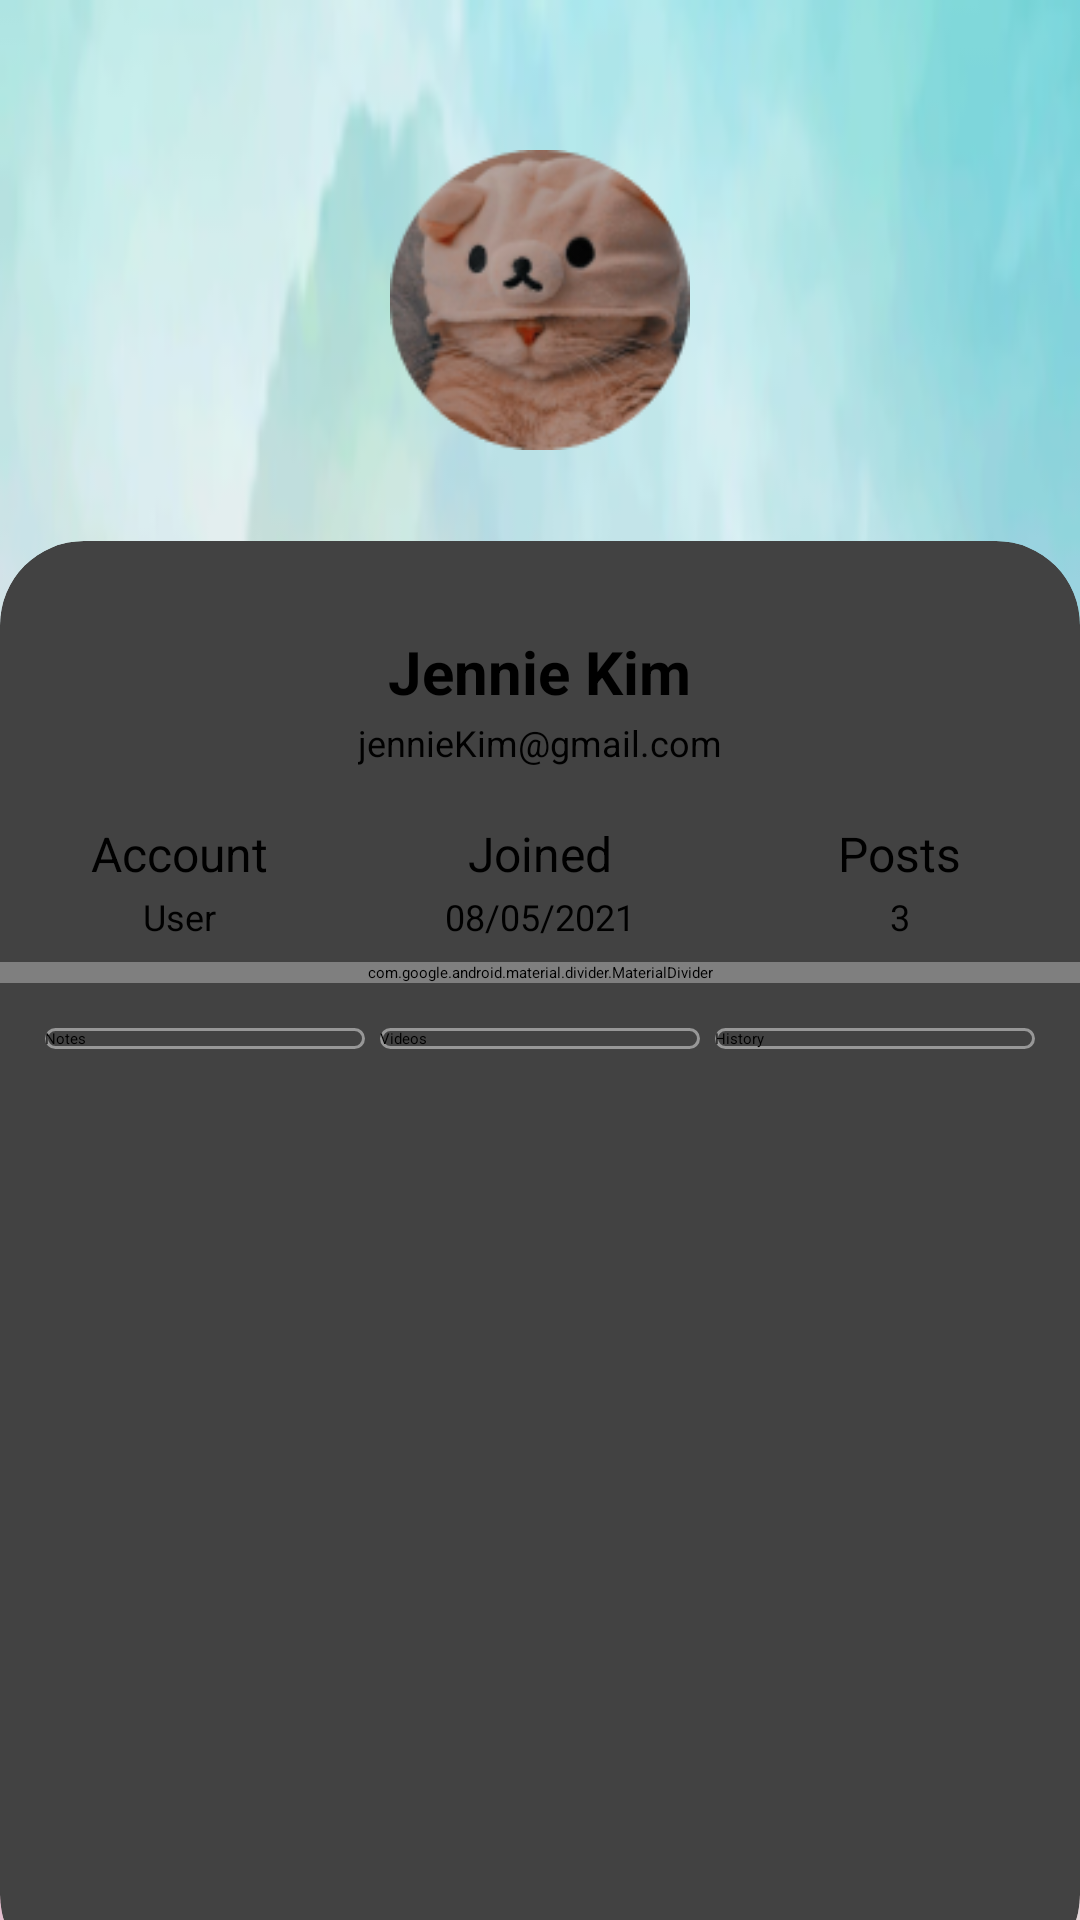

Locate icon controls on the screen. Image size 1080 x 1920, boxes as (x1, y1, x2, y2).
profile picture: (390, 150, 690, 450)
